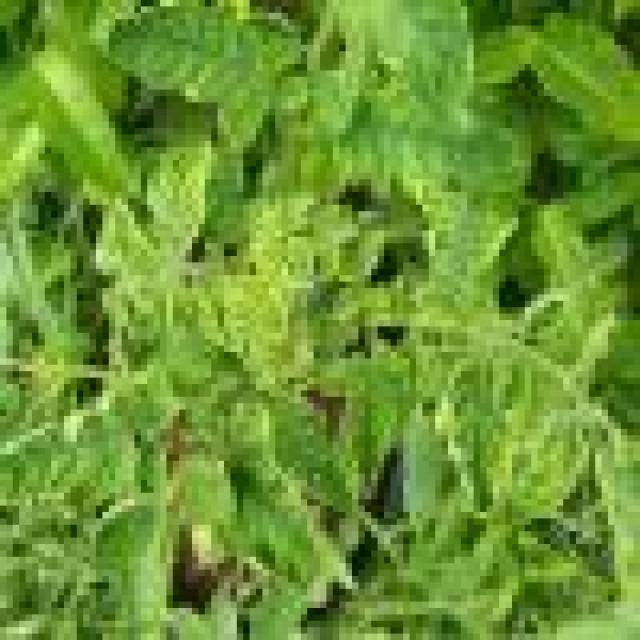Healthy Leaf: (0, 358, 179, 518), (192, 397, 326, 589), (102, 0, 269, 154), (326, 83, 525, 192), (524, 0, 634, 173), (20, 45, 134, 211), (314, 332, 422, 506), (493, 378, 582, 563), (365, 0, 480, 134), (532, 198, 614, 372), (442, 352, 512, 531), (262, 384, 358, 506), (410, 173, 492, 294), (140, 141, 218, 256), (173, 442, 243, 544), (518, 288, 576, 346), (410, 275, 467, 333), (147, 282, 179, 358), (288, 230, 320, 294), (243, 320, 288, 365), (192, 294, 230, 346), (326, 282, 365, 326), (384, 269, 410, 326)
